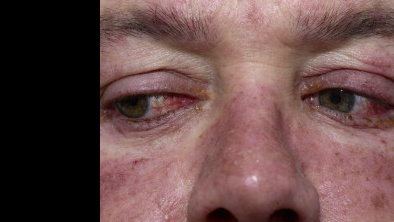SJS-TEN: (139, 65, 233, 148), (288, 74, 394, 138)
